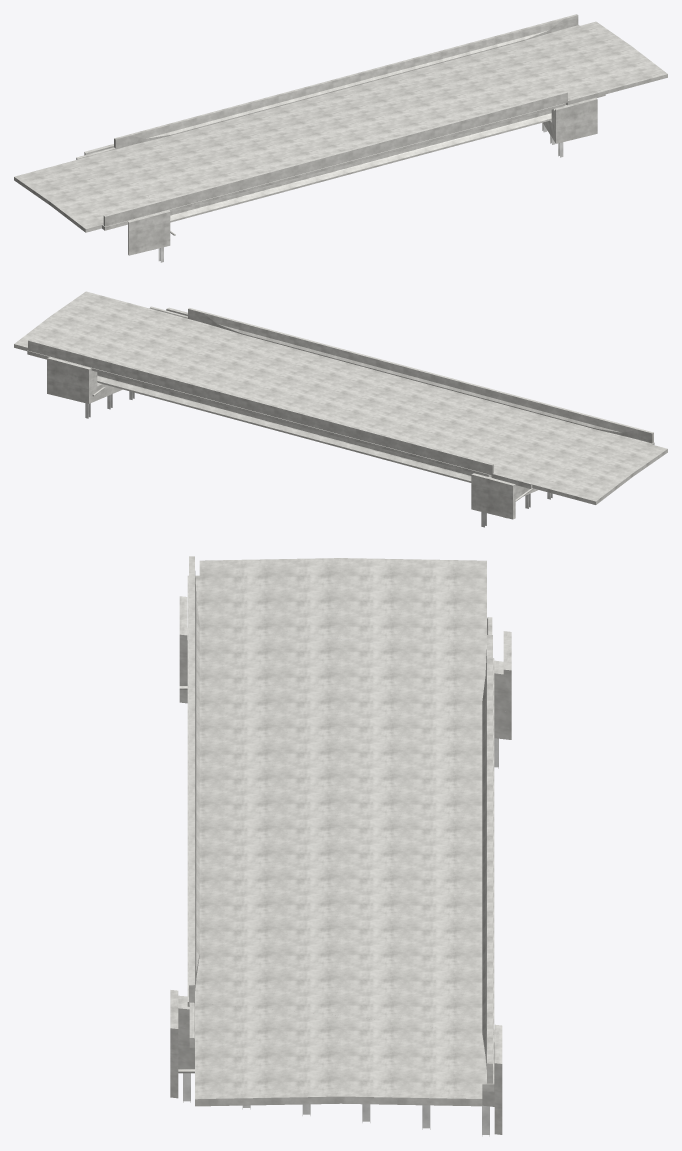
Rendered from model_render.glb.
3 renders of one model, top to bottom at view 1: azimuth 30°, elevation 25°; view 2: azimuth 150°, elevation 25°; view 3: azimuth 270°, elevation 25°, orthographic. The views are drawn at different scales.
Parts seen in each view (by area): view 1: deck, approach_1, approach_-1, FC_rail_-1, FC_rail_1, beam_0_3, wing_1_1, wing_0_1, TFC_transition_-1_-1, TFC_transition_-1_1, TFC_transition_1_-1, TFC_transition_1_1; view 2: deck, approach_-1, approach_1, FC_rail_1, FC_rail_-1, beam_0_0, wing_0_-1, wing_1_-1, TFC_transition_-1_1, TFC_transition_-1_-1, TFC_transition_1_1, TFC_transition_1_-1 (+3 smaller); view 3: deck, approach_1, approach_-1, FC_rail_1, FC_rail_-1, integral_infill_0_0, wing_1_-1, wing_1_1.
Boxes of the visible parts, x1,y1,x2,y2 form: deck: (118, 40, 564, 212); approach_1: (525, 21, 667, 105); approach_-1: (14, 149, 151, 232); FC_rail_-1: (169, 29, 525, 135); FC_rail_1: (158, 106, 513, 211); beam_0_3: (170, 109, 551, 222); wing_1_1: (569, 97, 597, 140); wing_0_1: (128, 213, 156, 255); TFC_transition_-1_-1: (114, 124, 170, 149); TFC_transition_-1_1: (103, 201, 159, 226); TFC_transition_1_-1: (523, 14, 578, 40); TFC_transition_1_1: (512, 91, 567, 116); deck: (81, 319, 596, 476); approach_-1: (491, 430, 667, 504); approach_1: (14, 291, 190, 357); FC_rail_1: (241, 322, 598, 429); FC_rail_-1: (82, 354, 438, 460); beam_0_0: (97, 372, 473, 482); wing_0_-1: (485, 477, 515, 519); wing_1_-1: (47, 357, 77, 400); TFC_transition_-1_1: (596, 418, 653, 443); TFC_transition_-1_-1: (438, 449, 493, 475); TFC_transition_1_1: (188, 308, 243, 333); TFC_transition_1_-1: (28, 339, 83, 365); deck: (187, 625, 494, 1034); approach_1: (195, 1002, 482, 1106); approach_-1: (199, 558, 486, 656); FC_rail_1: (189, 606, 199, 952); FC_rail_-1: (482, 685, 492, 1030); integral_infill_0_0: (494, 659, 511, 711); wing_1_-1: (494, 1037, 502, 1134); wing_1_1: (170, 1002, 178, 1098).
Bounding box in the file's own units: 51.17 × 6.2 × 13.
3 materials, 2 textured.
